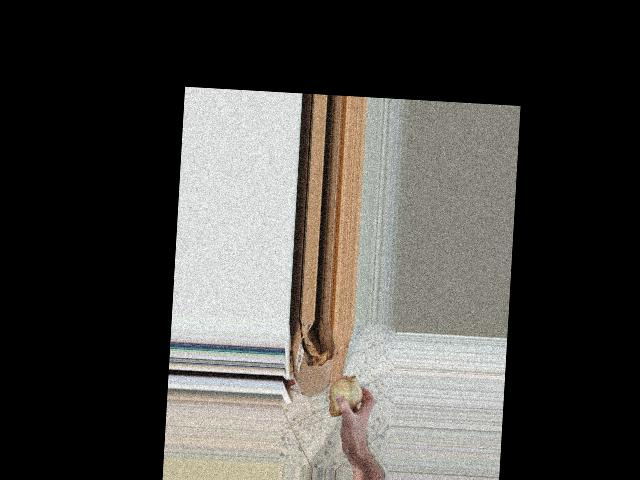onion: (324, 372, 367, 420)
